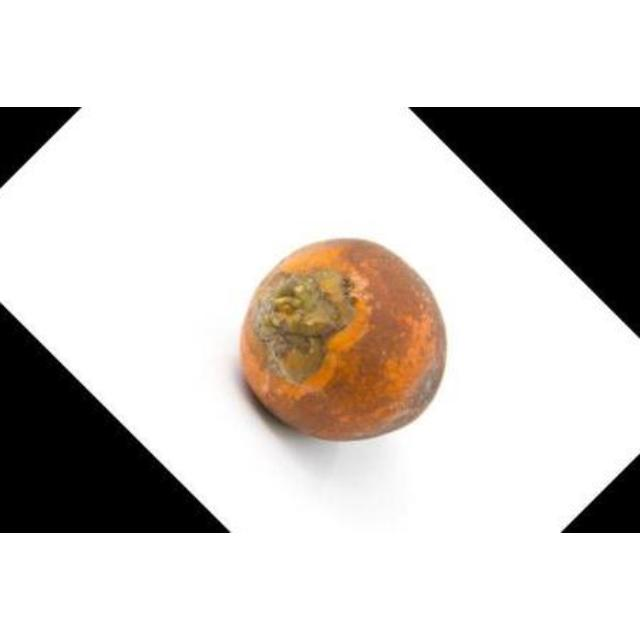good: (242, 238, 444, 442)
